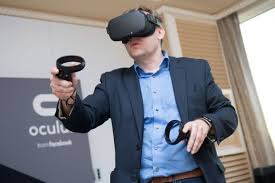oculus: (107, 10, 157, 42)
